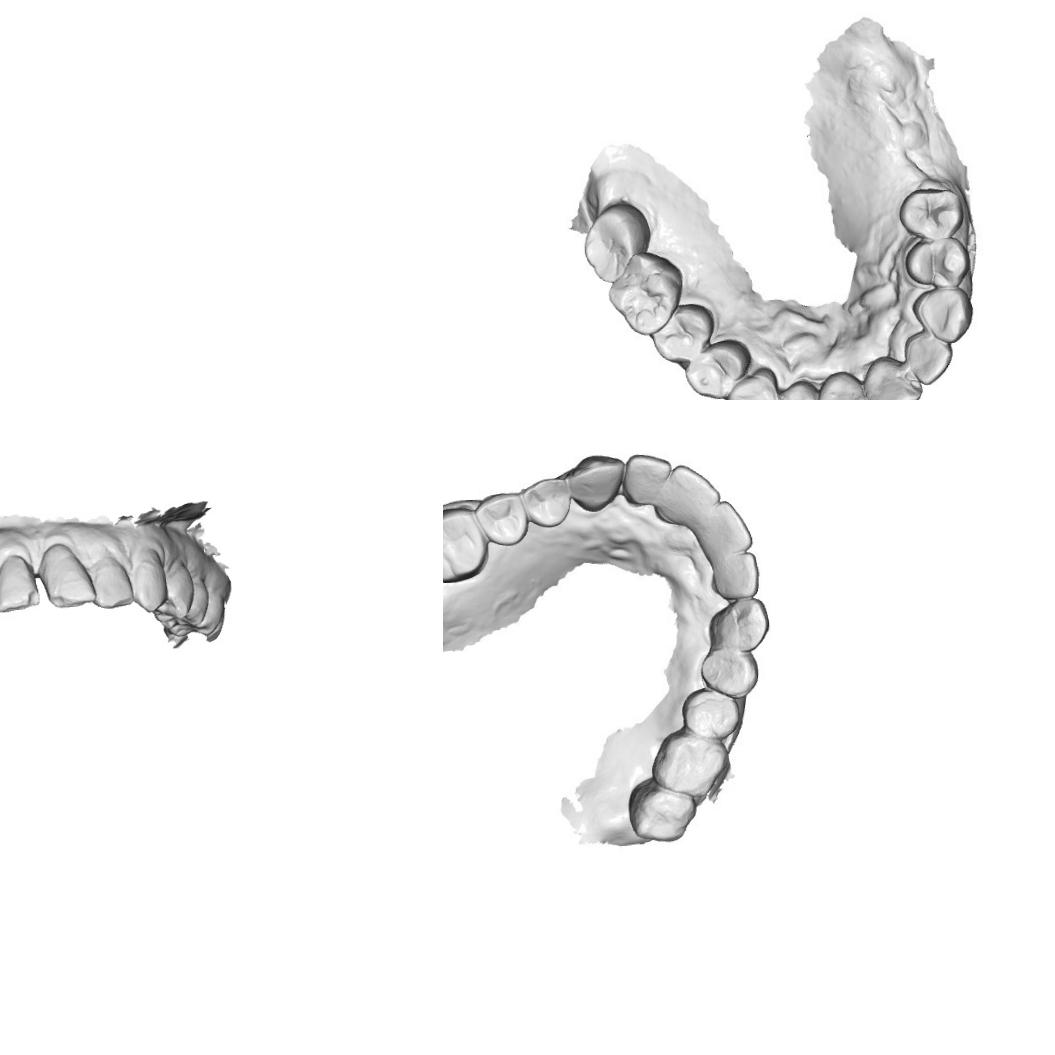canine: (565, 452, 626, 515), (911, 286, 977, 344), (705, 596, 771, 653), (128, 554, 170, 614), (723, 367, 778, 400)
incisor: (36, 540, 98, 610), (654, 462, 722, 524), (688, 498, 752, 555), (708, 548, 762, 600), (90, 550, 136, 611), (902, 332, 954, 385), (621, 452, 673, 504), (864, 356, 924, 400), (0, 550, 40, 614), (816, 367, 873, 400), (772, 379, 819, 400)
molar: (606, 252, 684, 336), (649, 724, 731, 800), (582, 201, 652, 284), (624, 775, 694, 845), (443, 504, 488, 584)
premolar: (681, 337, 753, 400), (897, 184, 964, 243), (650, 304, 714, 365), (903, 236, 972, 289), (678, 687, 744, 741), (696, 648, 762, 698), (472, 490, 528, 548), (519, 475, 573, 529), (154, 562, 197, 625), (176, 576, 210, 630)
